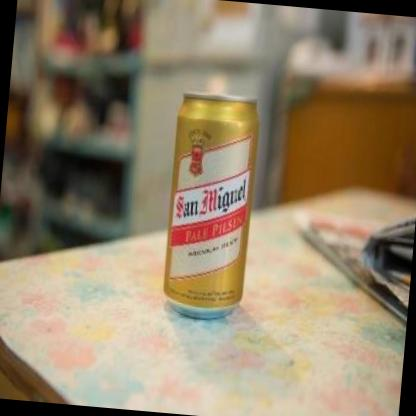alumunium_can: (158, 89, 263, 324)
